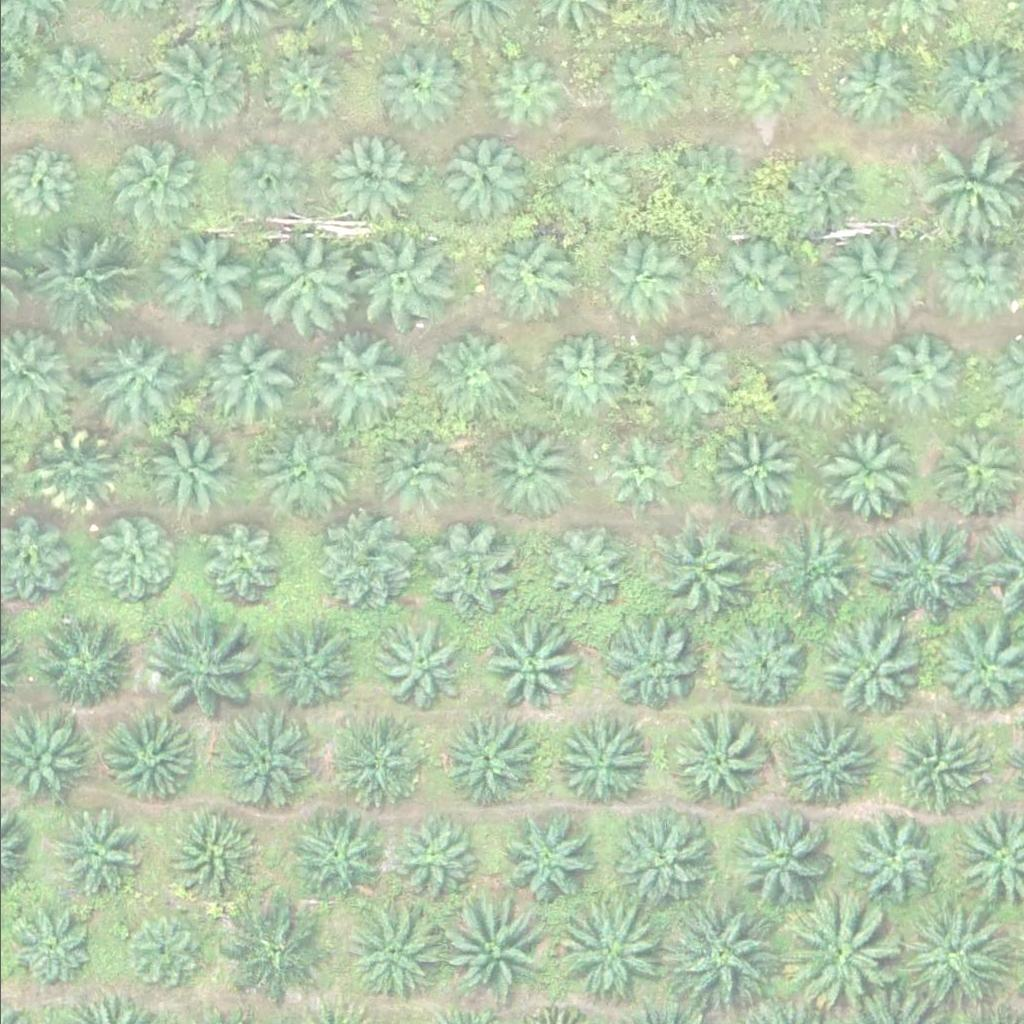Kelapa_Sawit: (242, 224, 356, 337), (894, 894, 1008, 1007), (139, 614, 252, 727), (223, 899, 336, 1012), (548, 899, 661, 1012), (664, 898, 777, 1011), (18, 224, 132, 336), (868, 512, 981, 624), (334, 898, 447, 1010), (444, 893, 557, 1005), (781, 896, 894, 1008), (161, 802, 262, 902), (28, 614, 129, 714), (150, 236, 251, 336), (150, 30, 251, 130), (916, 141, 1017, 241), (768, 148, 869, 248), (472, 221, 573, 321), (347, 236, 448, 336), (635, 326, 736, 426), (252, 420, 353, 520), (701, 421, 802, 521), (820, 423, 921, 523), (768, 518, 869, 618), (657, 521, 758, 621), (419, 520, 520, 620), (315, 518, 416, 618), (480, 621, 581, 721), (365, 614, 466, 714), (256, 618, 357, 718), (213, 712, 314, 812), (437, 711, 538, 811), (666, 713, 767, 813), (890, 714, 991, 814), (839, 811, 940, 911), (729, 809, 830, 909), (493, 804, 594, 904), (281, 807, 382, 907), (95, 709, 195, 809), (822, 38, 922, 138), (815, 231, 915, 331), (310, 327, 410, 427), (816, 620, 916, 720), (599, 611, 699, 711), (327, 719, 427, 819), (551, 714, 651, 814), (780, 721, 880, 821), (612, 808, 712, 908), (117, 910, 205, 998), (10, 899, 98, 987), (49, 812, 137, 900), (203, 329, 291, 417), (87, 330, 175, 418), (103, 145, 191, 233), (30, 39, 118, 127), (657, 143, 745, 231), (930, 233, 1018, 321), (709, 234, 797, 322), (597, 230, 685, 318), (872, 331, 960, 419), (765, 331, 853, 419), (532, 328, 620, 416), (488, 430, 576, 518), (538, 525, 626, 613), (594, 424, 683, 511), (189, 520, 277, 607), (80, 517, 168, 604), (28, 427, 116, 514), (143, 426, 231, 513), (258, 45, 346, 132), (376, 45, 464, 132), (480, 52, 568, 139), (603, 40, 691, 127), (540, 139, 628, 226), (431, 138, 519, 225), (323, 135, 411, 222), (425, 327, 513, 414), (367, 425, 455, 512), (717, 620, 805, 707), (392, 814, 480, 901), (721, 50, 797, 125), (225, 149, 301, 224)
